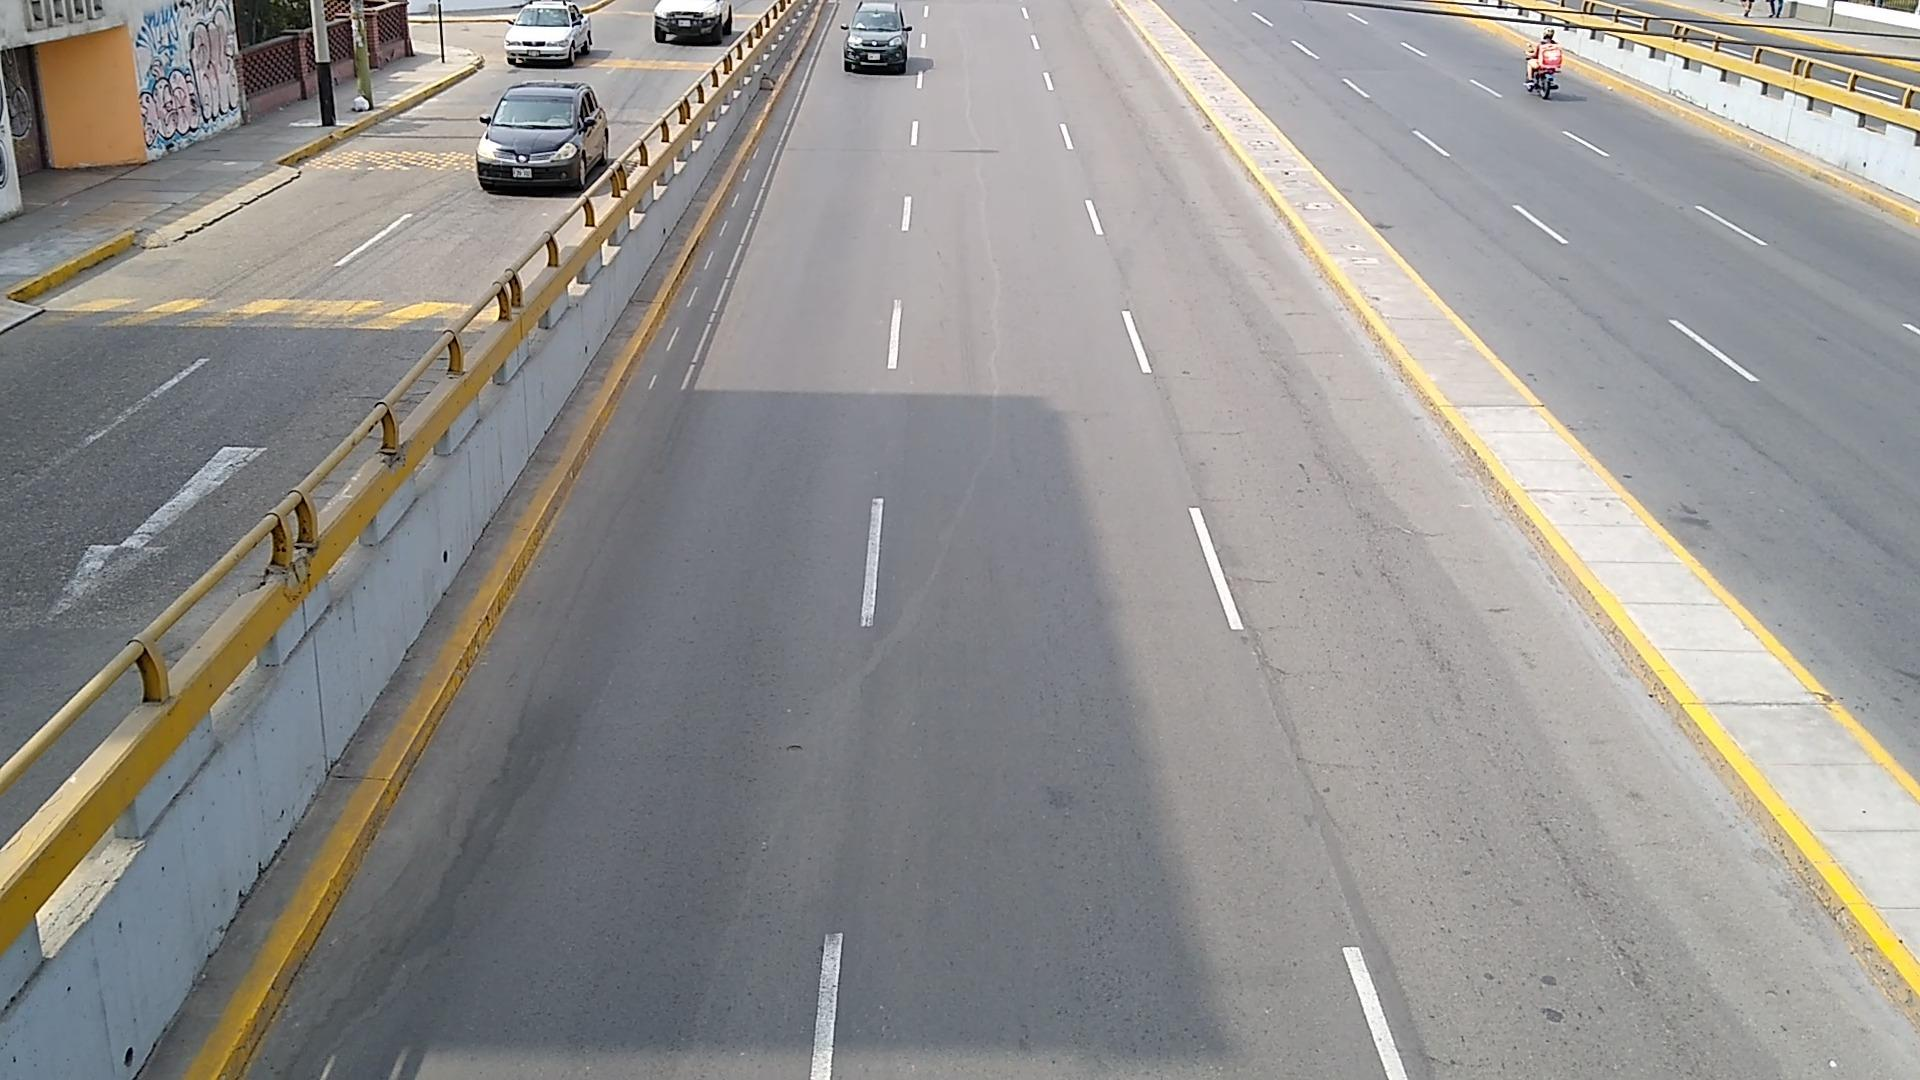car: (476, 83, 608, 191), (506, 0, 592, 63), (844, 0, 911, 73), (653, 0, 732, 45)
motorcyclist: (1526, 30, 1564, 98)
